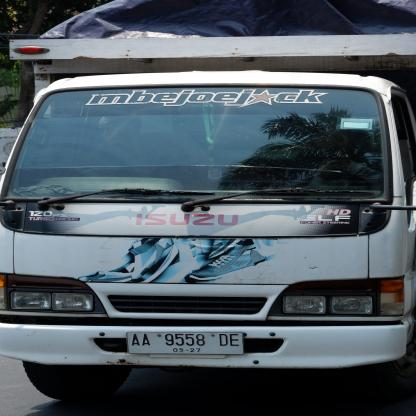Plat-Nomor: (124, 330, 247, 358)
